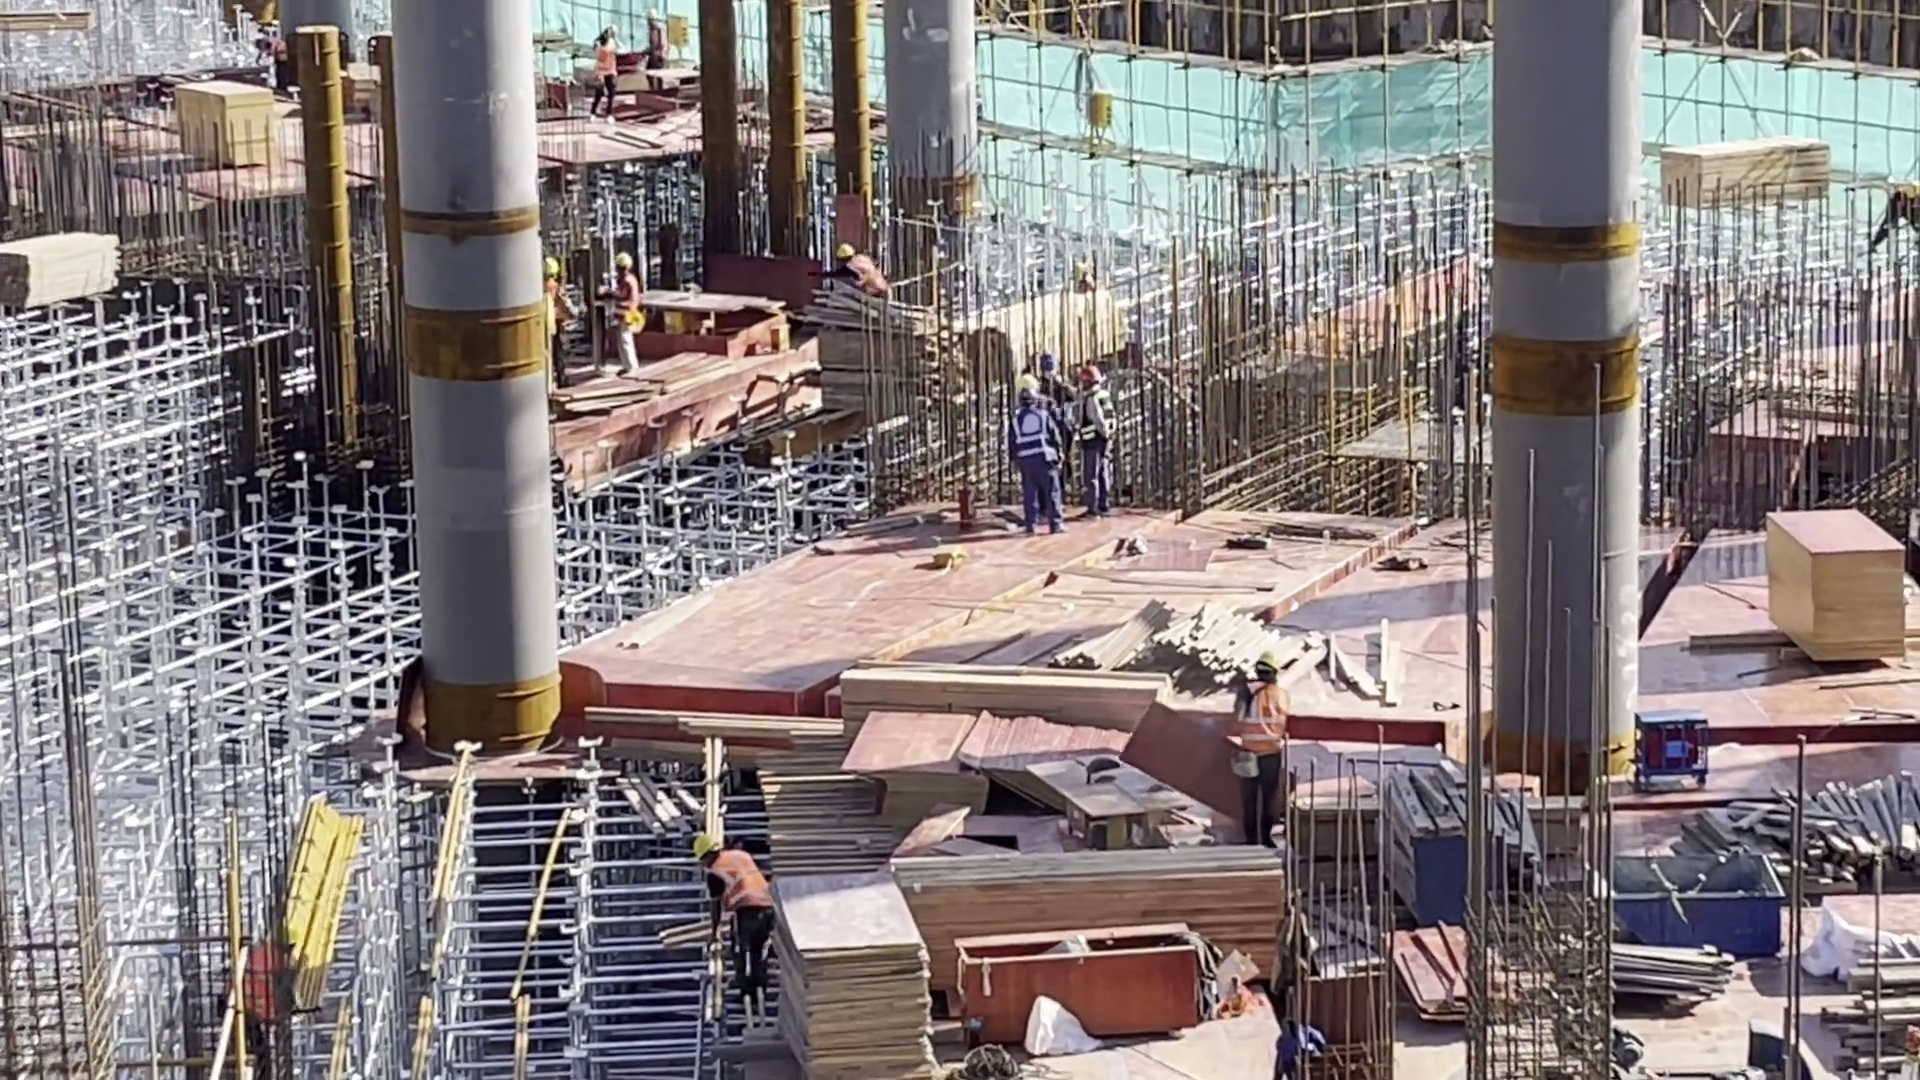helmet: (692, 834, 719, 859), (1253, 647, 1281, 668), (1077, 364, 1103, 386), (1016, 384, 1042, 405), (834, 241, 858, 260), (1037, 351, 1055, 373), (613, 249, 633, 267), (539, 258, 558, 276)
person: (1225, 647, 1300, 843), (692, 835, 773, 1013), (227, 935, 295, 1080), (1002, 374, 1061, 526), (1075, 362, 1117, 515), (602, 251, 646, 373), (813, 240, 899, 298), (541, 254, 579, 383), (1879, 163, 1919, 254), (1020, 348, 1077, 412), (594, 23, 621, 113), (642, 12, 669, 94)
vest: (709, 852, 770, 932), (1238, 686, 1291, 757), (1011, 410, 1056, 468), (1079, 393, 1113, 456), (607, 278, 643, 331), (847, 255, 890, 298), (540, 283, 568, 337)
